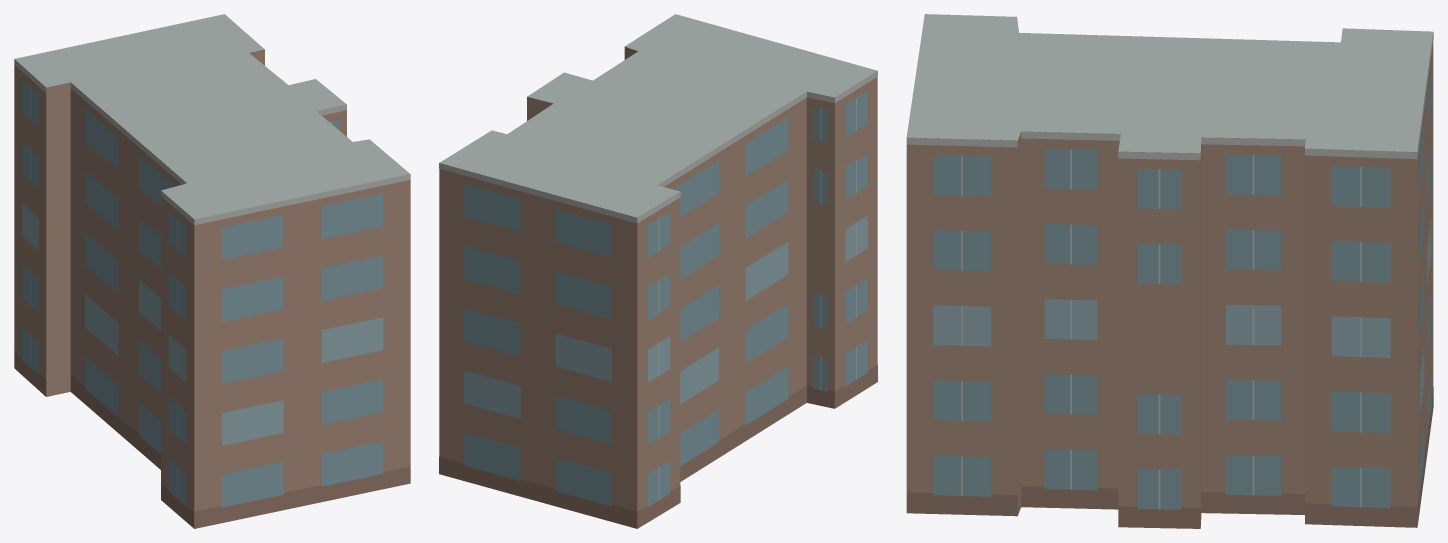
File: survey-upis-32753459.glb
3 views of the same model, side by side, from view 1: azimuth 30°, elevation 25°; view 2: azimuth 150°, elevation 25°; view 3: azimuth 270°, elevation 25° (orthographic). The views are drawn at different scales.
Parts seen in each view (by area): view 1: survey-upis-32753459.tmp; view 2: survey-upis-32753459.tmp; view 3: survey-upis-32753459.tmp.
Part boxes in pixels (x1=…): survey-upis-32753459.tmp: x1=14, y1=14, x2=410, y2=528; survey-upis-32753459.tmp: x1=439, y1=14, x2=877, y2=528; survey-upis-32753459.tmp: x1=906, y1=14, x2=1433, y2=528.
Bounding box in the file's own units: 10.44 × 13.12 × 16.69.
